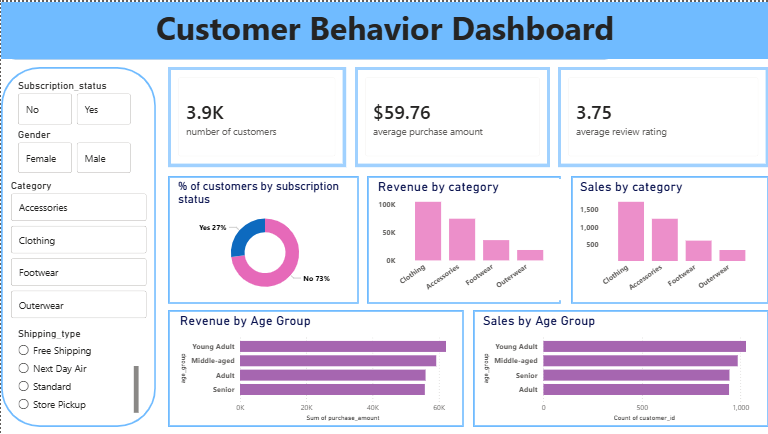

What the dashboard file says about the page in this screenshot:
{"tool":"powerbi","page":{"name":"Page 1","canvas":[1280,720],"ordinal":0},"visuals":[{"type":"cardVisual","fields":{"Data":["public customer.number of customers"]},"box":[278.3,108.3,296.7,166.7],"z":0},{"type":"cardVisual","fields":{"Data":["public customer.average review rating"]},"box":[928.1,108,351.9,167],"z":1000},{"type":"cardVisual","fields":{"Data":["public customer.average purchase amount"]},"box":[590,108.3,325,166.7],"z":2000},{"type":"shape","box":[0,0,1030,95.7],"z":3000},{"type":"textbox","box":[0,0,1280,95],"z":4000},{"type":"shape","box":[278.3,290,318.3,213.3],"z":5000},{"type":"shape","box":[610,290,323.3,213.3],"z":6000},{"type":"shape","box":[950,290,330,213.3],"z":7000},{"type":"shape","box":[786.7,513.3,493.3,195],"z":8000},{"type":"shape","box":[278.3,513.3,493.3,195],"z":9000},{"type":"donutChart","title":"% of Customers by Subscription Status","fields":{"Category":["public customer.subscription_status"],"Y":["CountNonNull(public customer.customer_id)"]},"box":[290,295,300,201.7],"z":10000},{"type":"clusteredColumnChart","title":"Revenue by Category","fields":{"Y":["Sum(public customer.purchase_amount)"],"Category":["public customer.category"]},"box":[623.3,295,310,201.7],"z":11000},{"type":"clusteredColumnChart","title":"Sales by Category","fields":{"Y":["CountNonNull(public customer.customer_id)"],"Category":["public customer.category"]},"box":[960,295,310,201.7],"z":12000},{"type":"shape","box":[0,108.3,258.3,600],"z":13000},{"type":"advancedSlicerVisual","title":"Subscription_status","fields":{"Values":["public customer.subscription_status"]},"box":[23.3,128.3,198.3,81.7],"z":14000},{"type":"advancedSlicerVisual","title":"Gender","fields":{"Values":["public customer.gender"]},"box":[23.3,210,198.3,80],"z":15000},{"type":"advancedSlicerVisual","title":"Category","fields":{"Values":["public customer.category"]},"box":[11.7,295,236.7,240],"z":16000},{"type":"listSlicer","fields":{"Values":["public customer.shipping_type"]},"box":[23.3,541.7,211.7,148.3],"z":17000},{"type":"clusteredBarChart","title":"Revenue by Age Group","fields":{"Y":["Sum(public customer.purchase_amount)"],"Category":["public customer.age_group"]},"box":[293.3,518.3,463.3,185],"z":18000},{"type":"clusteredBarChart","title":"Sales by Age Group","fields":{"Y":["CountNonNull(public customer.customer_id)"],"Category":["public customer.age_group"]},"box":[798.3,518.3,463.3,185],"z":19000}]}

Visuals, with their boxes in screenshot pixels (x1, y1, x2, y2), scaled from the page's 1280x720 canvas onto the 768x434 screenshot:
cardVisual - public customer.number of customers: rect(167, 65, 345, 166)
cardVisual - public customer.average review rating: rect(557, 65, 767, 166)
cardVisual - public customer.average purchase amount: rect(354, 65, 549, 166)
shape: rect(0, 0, 618, 58)
textbox: rect(0, 0, 767, 57)
shape: rect(167, 175, 358, 303)
shape: rect(366, 175, 560, 303)
shape: rect(570, 175, 767, 303)
shape: rect(472, 309, 767, 427)
shape: rect(167, 309, 463, 427)
"% of Customers by Subscription Status" donutChart: rect(174, 178, 354, 299)
"Revenue by Category" clusteredColumnChart: rect(374, 178, 560, 299)
"Sales by Category" clusteredColumnChart: rect(576, 178, 762, 299)
shape: rect(0, 65, 155, 427)
"Subscription_status" advancedSlicerVisual: rect(14, 77, 133, 127)
"Gender" advancedSlicerVisual: rect(14, 127, 133, 175)
"Category" advancedSlicerVisual: rect(7, 178, 149, 322)
listSlicer - public customer.shipping_type: rect(14, 327, 141, 416)
"Revenue by Age Group" clusteredBarChart: rect(176, 312, 454, 424)
"Sales by Age Group" clusteredBarChart: rect(479, 312, 757, 424)
